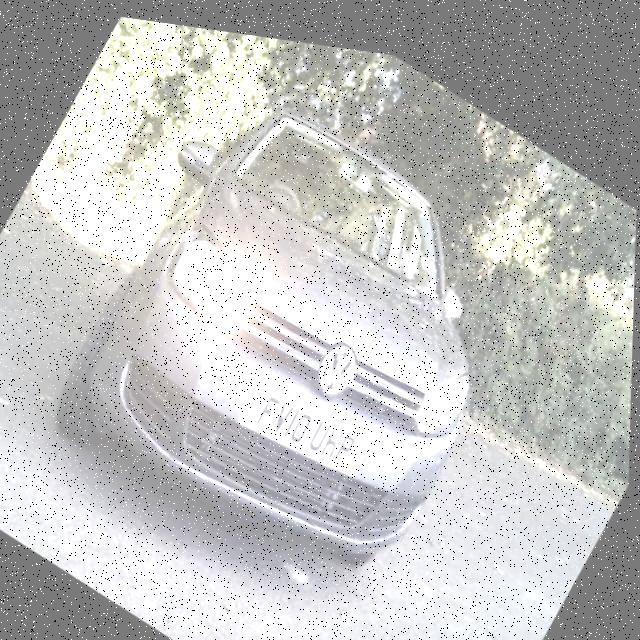license_plate: (236, 360, 375, 484)
